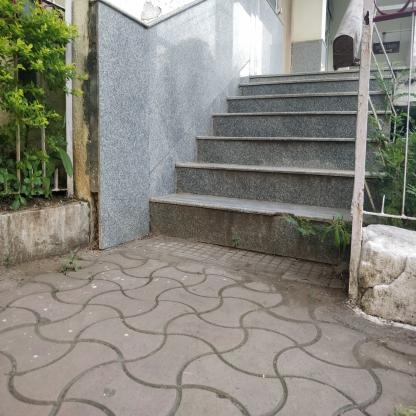stairs: (193, 87, 323, 271)
